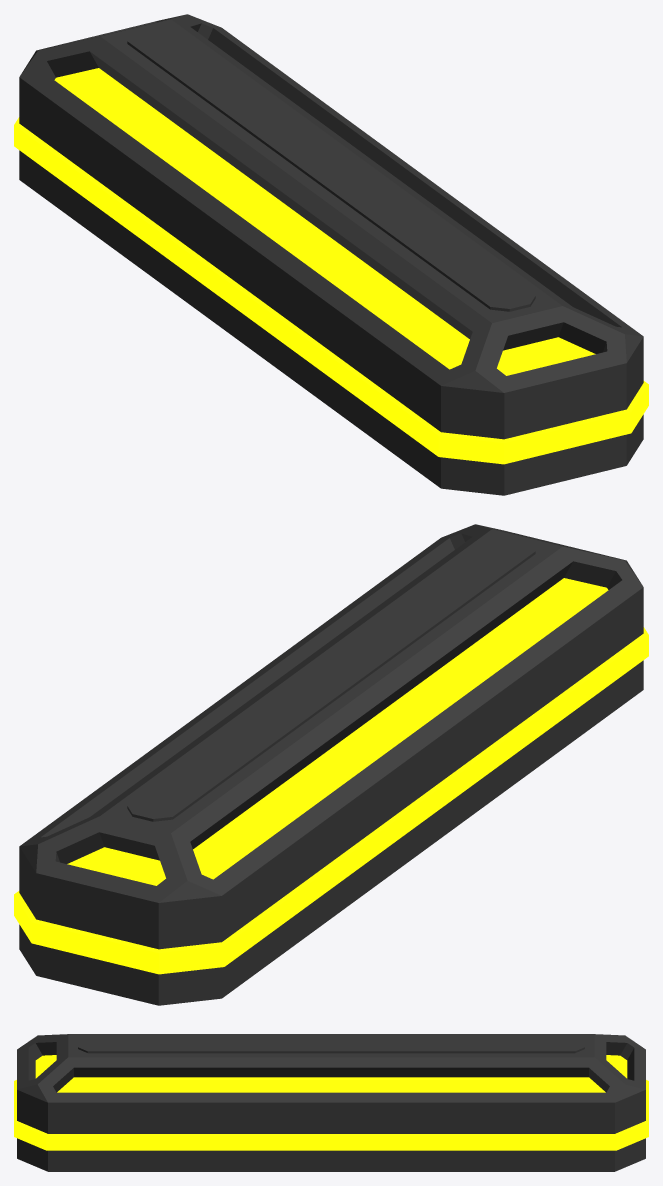
File: Wall_1x4.fbx
3 views of the same model, one above another, from view 1: azimuth 30°, elevation 25°; view 2: azimuth 150°, elevation 25°; view 3: azimuth 270°, elevation 25° (orthographic). The views are drawn at different scales.
Visible parts, largest first — view 1: Cube; view 2: Cube; view 3: Cube.
Boxes of the visible parts, left/top/right/bottom form: Cube: left=14, top=14, right=648, bottom=495; Cube: left=14, top=524, right=648, bottom=1005; Cube: left=14, top=1034, right=648, bottom=1171.
Bounding box in the file's own units: 208 × 133 × 808.
